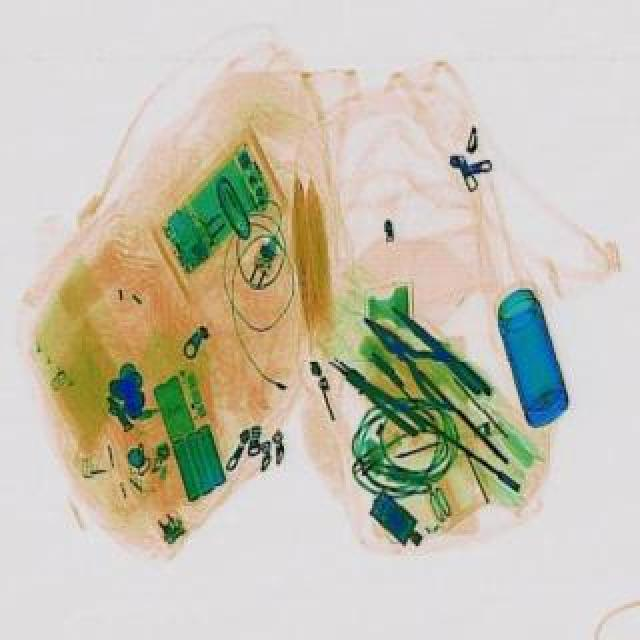wrench: (348, 298, 480, 414), (384, 298, 494, 400), (324, 350, 428, 436)
